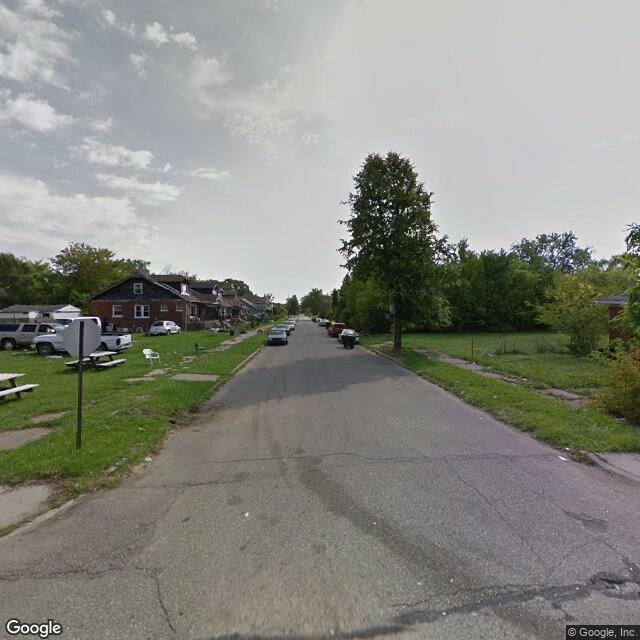litter: (557, 451, 567, 464), (242, 509, 253, 520), (142, 454, 154, 462), (136, 425, 148, 431), (493, 392, 497, 399)
